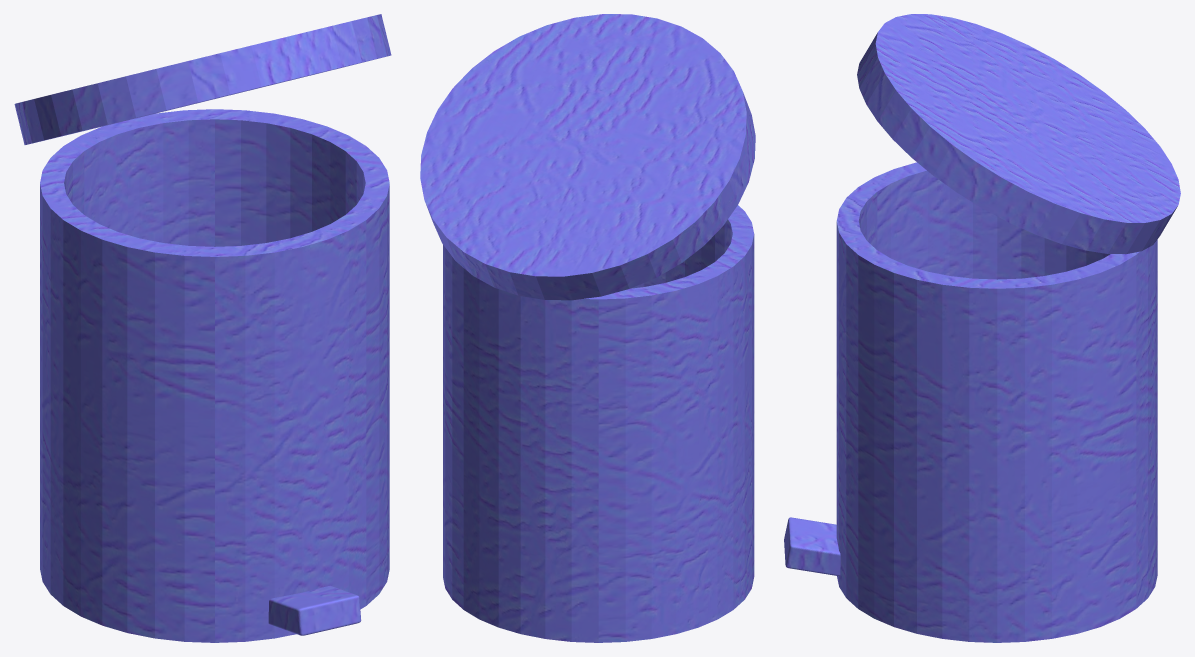
The model's file is dustbin.fbx.
3 views of the same model, side by side, from view 1: azimuth 30°, elevation 25°; view 2: azimuth 150°, elevation 25°; view 3: azimuth 270°, elevation 25° (orthographic). The views are drawn at different scales.
Visible parts, largest first — view 1: rubbish; view 2: rubbish; view 3: rubbish.
Part boxes in pixels (box(x1,y1,x2,y2)): rubbish: box(14, 14, 391, 642); rubbish: box(420, 14, 755, 642); rubbish: box(784, 14, 1180, 642).
Size of the model in its own units: 5.65 by 9.55 by 6.46.
